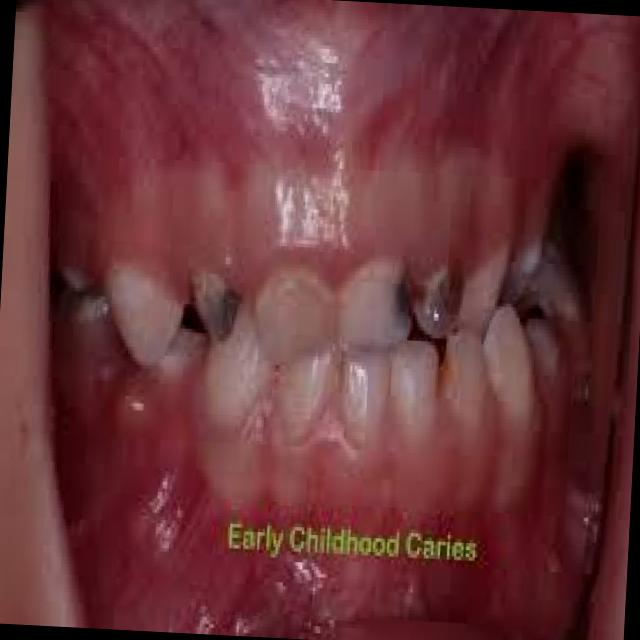caries: (386, 245, 468, 356), (500, 234, 581, 332), (181, 260, 252, 357)
